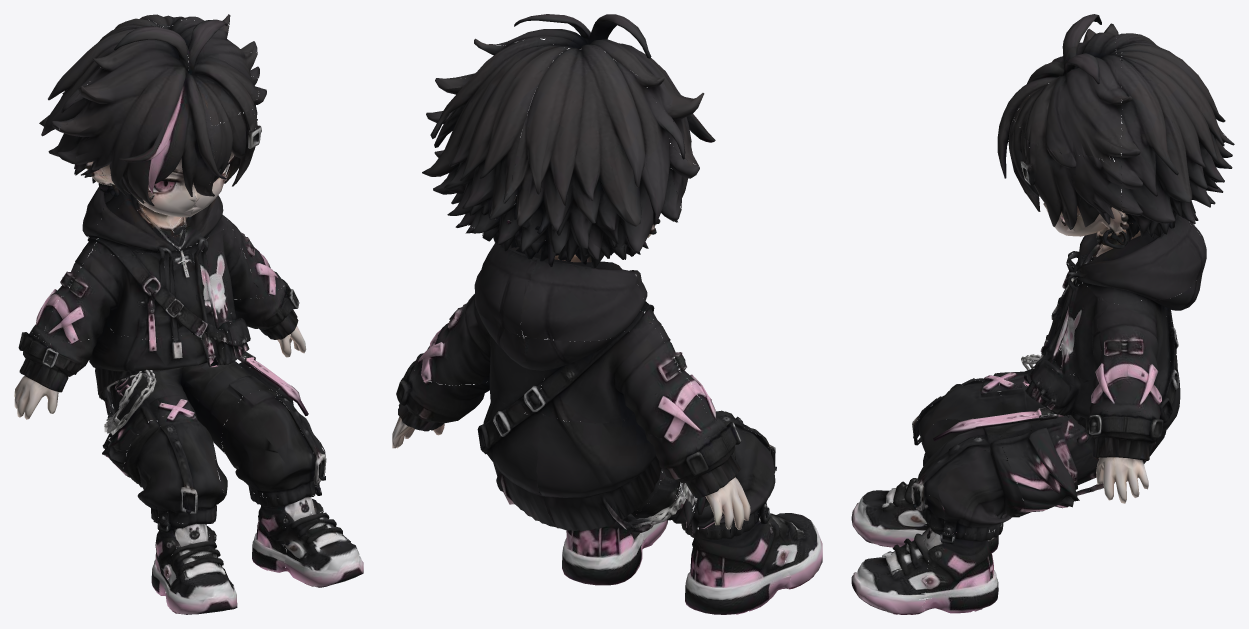
File: studio-visitor-dusk-v3.glb
3 views of the same model, side by side, from view 1: azimuth 30°, elevation 25°; view 2: azimuth 150°, elevation 25°; view 3: azimuth 270°, elevation 25° (orthographic). The views are drawn at different scales.
Parts seen in each view (by area): view 1: dusk_continuous_body; view 2: dusk_continuous_body; view 3: dusk_continuous_body.
Boxes of the visible parts, box(x1,y1,x2,y2) form: dusk_continuous_body: box(14, 14, 363, 614); dusk_continuous_body: box(392, 14, 822, 614); dusk_continuous_body: box(851, 14, 1234, 614).
Bounding box in the file's own units: 0.58 × 1 × 0.6396.
Materials: 5 (5 with a texture image).
